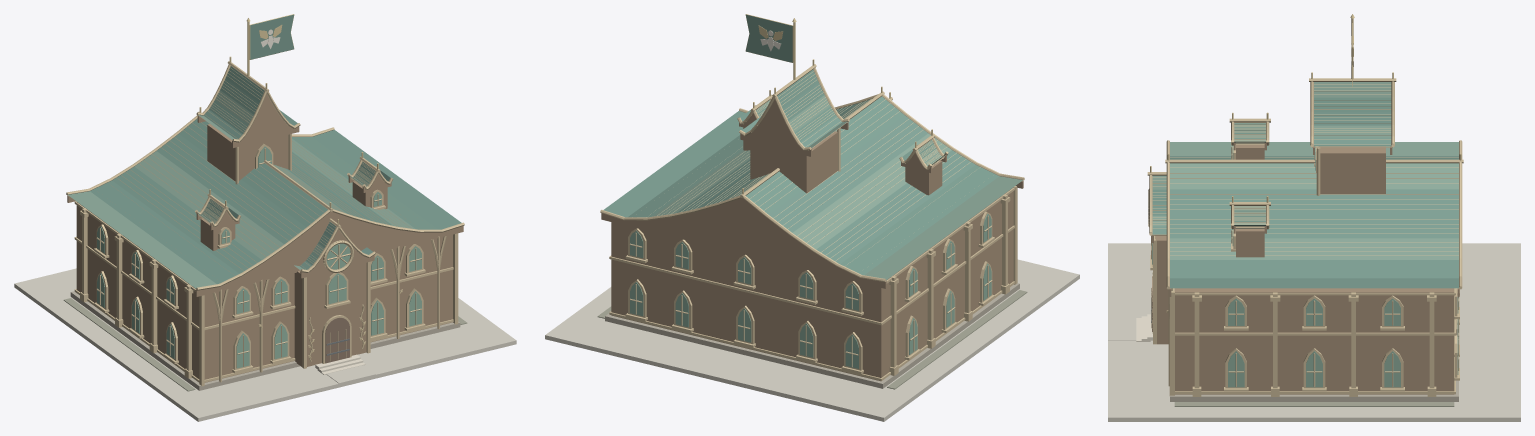
File: SpiritAcademy_Lv4.fbx
3 views of the same model, side by side, from view 1: azimuth 30°, elevation 25°; view 2: azimuth 150°, elevation 25°; view 3: azimuth 270°, elevation 25° (orthographic). The views are drawn at different scales.
Parts seen in each view (by area): view 1: Roof surfaces.016, Main school walls.015, Fixed 26m plot.015, Roof surfaces.015, Gable infill.010, Window glass.015, Projecting entrance bay.015, Roof courses.010, Window frame.015, Gable verge.010, School foundation.015, Tree shaped bell tower.004 (+15 smaller); view 2: Main school walls.015, Roof surfaces.016, Fixed 26m plot.015, Roof surfaces.015, Gable infill.010, Window glass.015, Roof courses.010, Window frame.015, School foundation.015, Stone stringcourse.015, Gable verge.010, Tree shaped bell tower.004 (+7 smaller); view 3: Roof surfaces.016, Fixed 26m plot.015, Main school walls.015, Roof surfaces.015, Roof courses.010, Stone stringcourse.015, Tree shaped bell tower.004, Window glass.015, Gable verge.010, School foundation.015, Window frame.015, Decor side pilasters.015 (+10 smaller).
Boxes of the visible parts, bbox=[...] form: Roof surfaces.016: bbox=[90, 66, 461, 284]; Main school walls.015: bbox=[76, 202, 452, 382]; Fixed 26m plot.015: bbox=[14, 268, 516, 421]; Roof surfaces.015: bbox=[68, 90, 415, 288]; Gable infill.010: bbox=[67, 94, 463, 296]; Window glass.015: bbox=[97, 146, 421, 368]; Projecting entrance bay.015: bbox=[294, 262, 366, 366]; Roof courses.010: bbox=[111, 67, 419, 275]; Window frame.015: bbox=[96, 143, 423, 369]; Gable verge.010: bbox=[66, 64, 464, 290]; School foundation.015: bbox=[70, 291, 460, 390]; Tree shaped bell tower.004: bbox=[207, 124, 288, 181]; Main school walls.015: bbox=[611, 187, 1013, 381]; Roof surfaces.016: bbox=[603, 69, 999, 275]; Fixed 26m plot.015: bbox=[545, 259, 1079, 421]; Roof surfaces.015: bbox=[652, 95, 1022, 280]; Gable infill.010: bbox=[601, 100, 1023, 288]; Window glass.015: bbox=[630, 214, 991, 368]; Roof courses.010: bbox=[650, 71, 980, 264]; Window frame.015: bbox=[628, 211, 992, 370]; School foundation.015: bbox=[605, 283, 1019, 388]; Stone stringcourse.015: bbox=[609, 187, 1014, 380]; Gable verge.010: bbox=[600, 67, 1024, 281]; Tree shaped bell tower.004: bbox=[750, 131, 837, 193]; Roof surfaces.016: bbox=[1152, 97, 1458, 288]; Fixed 26m plot.015: bbox=[1108, 243, 1520, 421]; Main school walls.015: bbox=[1174, 288, 1454, 394]; Roof surfaces.015: bbox=[1152, 82, 1458, 259]; Roof courses.010: bbox=[1151, 84, 1458, 255]; Stone stringcourse.015: bbox=[1173, 288, 1455, 394]; Tree shaped bell tower.004: bbox=[1319, 146, 1385, 193]; Window glass.015: bbox=[1152, 146, 1458, 387]; Gable verge.010: bbox=[1149, 81, 1462, 289]; School foundation.015: bbox=[1170, 296, 1458, 401]; Window frame.015: bbox=[1152, 145, 1457, 388]; Decor side pilasters.015: bbox=[1194, 292, 1434, 388].
Bounding box in the file's own units: 26 × 22.27 × 26.
